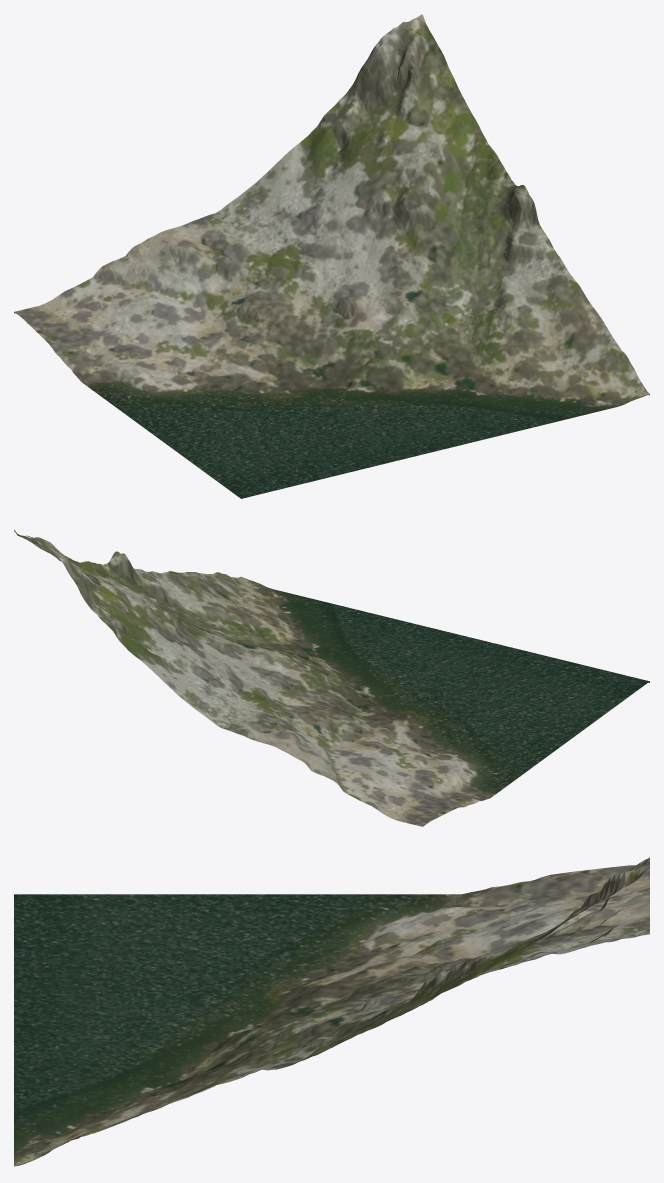
3 renders of one model, top to bottom at view 1: azimuth 30°, elevation 25°; view 2: azimuth 150°, elevation 25°; view 3: azimuth 270°, elevation 25°, orthographic. The views are drawn at different scales.
Bounding box in the file's own units: 250 × 129 × 241.
Materials: 1 (1 with a texture image).
